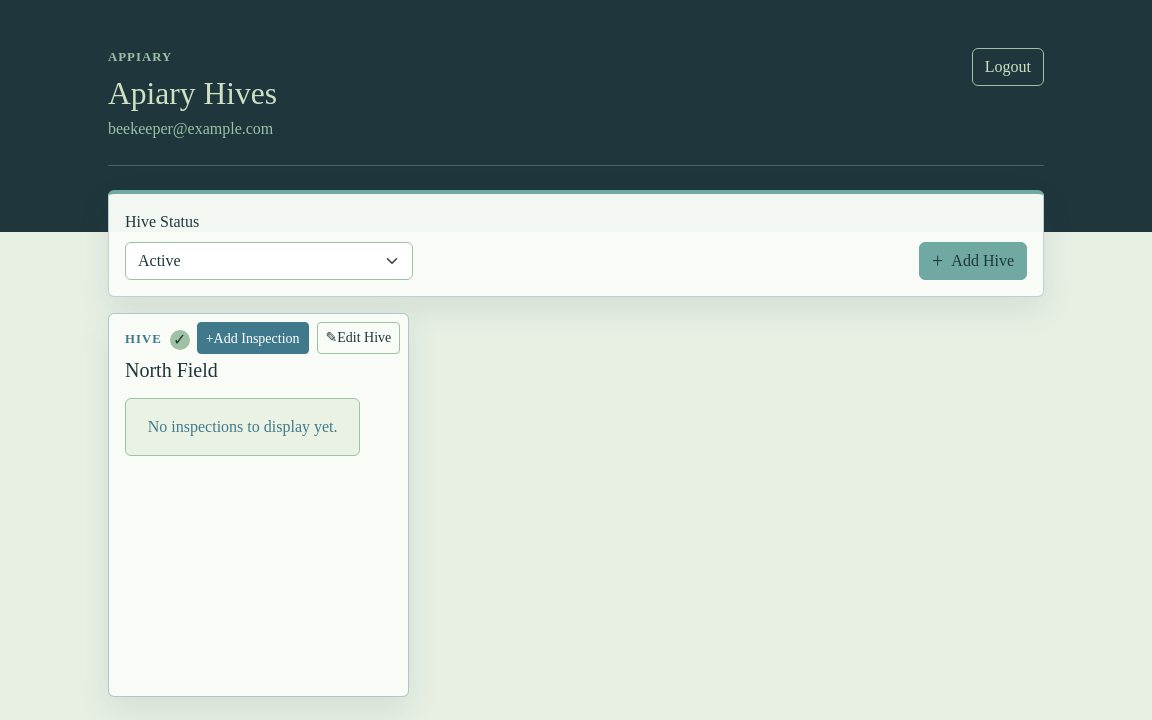
Test: HivesDashboardComponent › shows all hives when All is selected
Select "All" in the dropdown with id "hive-status-filter" at (269, 261), box [125, 242, 413, 280]
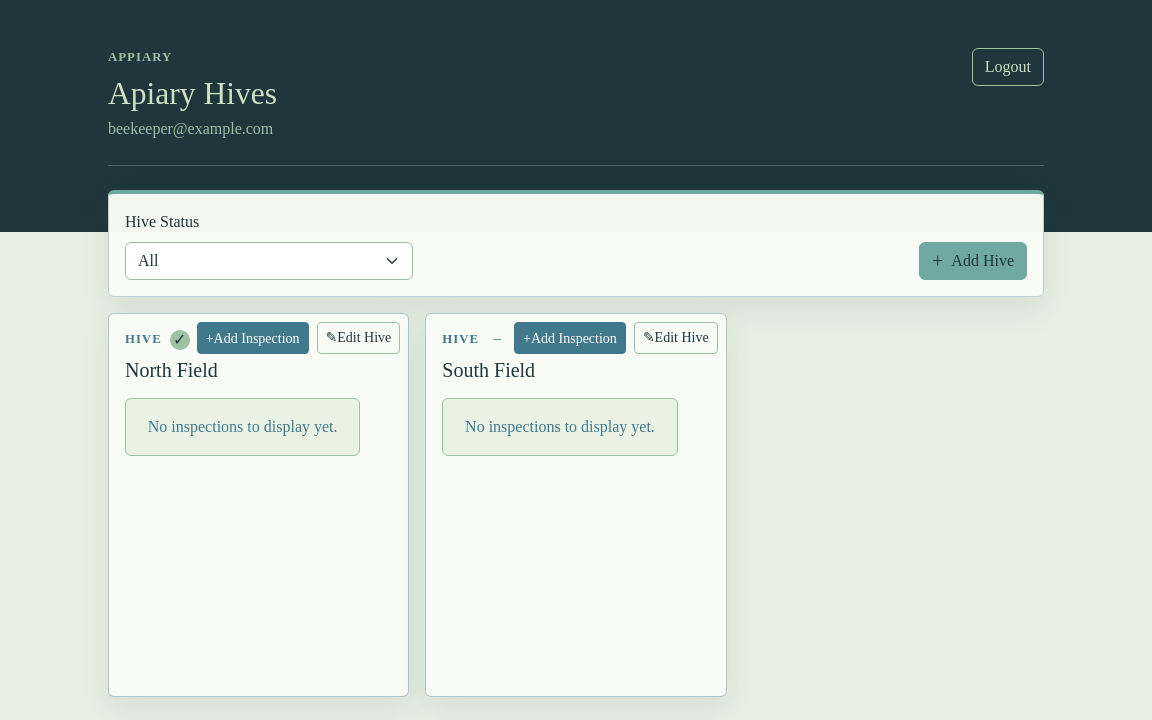
Expected: the element with test id "hive-card-hive-1" is shown, [108, 313, 409, 697]
Now the element with test id "hive-card-hive-2" is shown, box [425, 313, 727, 697]
